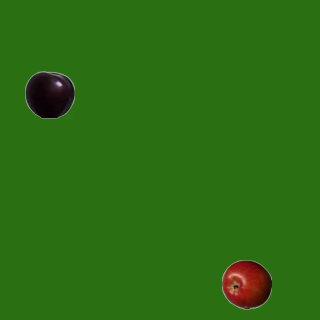Apple Braeburn: (221, 259, 271, 309)
Cherry Wax Black: (24, 69, 74, 119)
